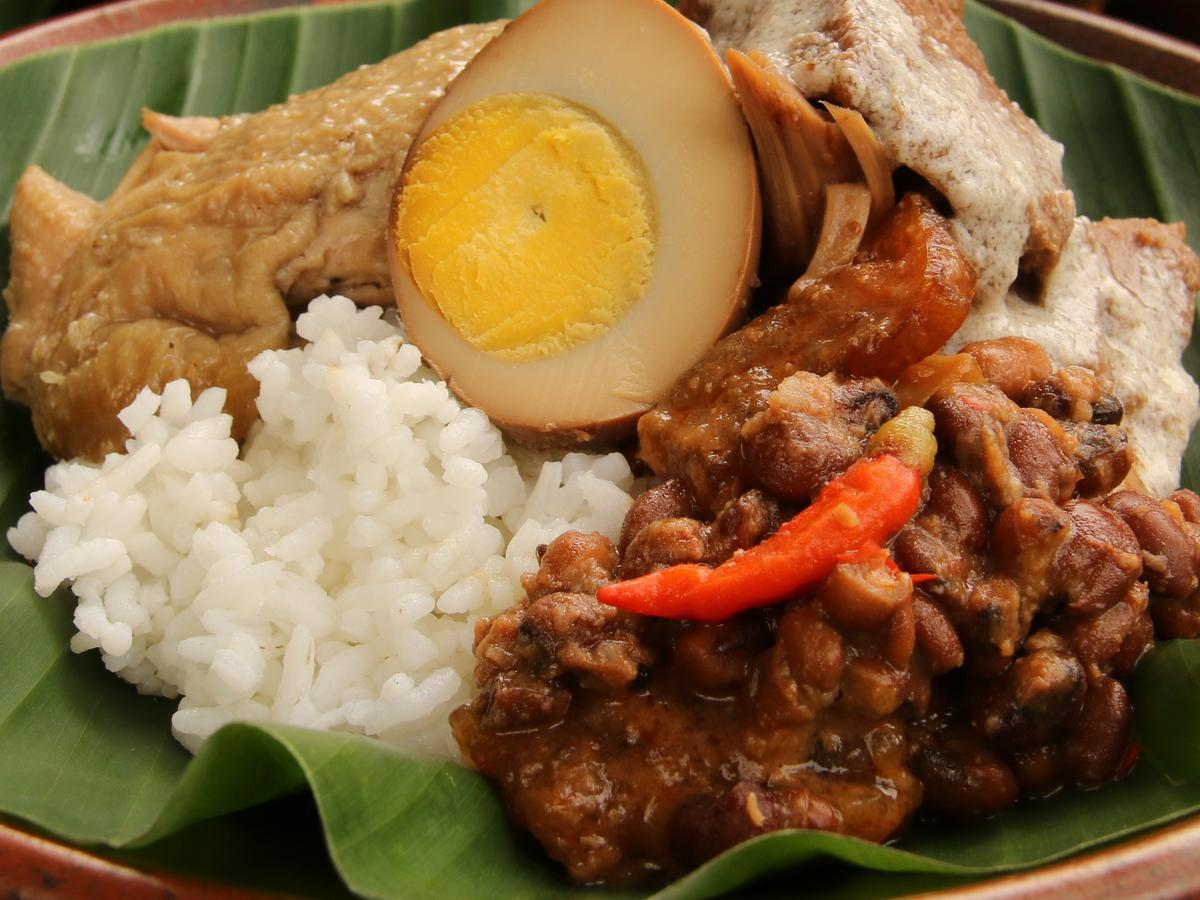gudeg: (13, 6, 1200, 830)
